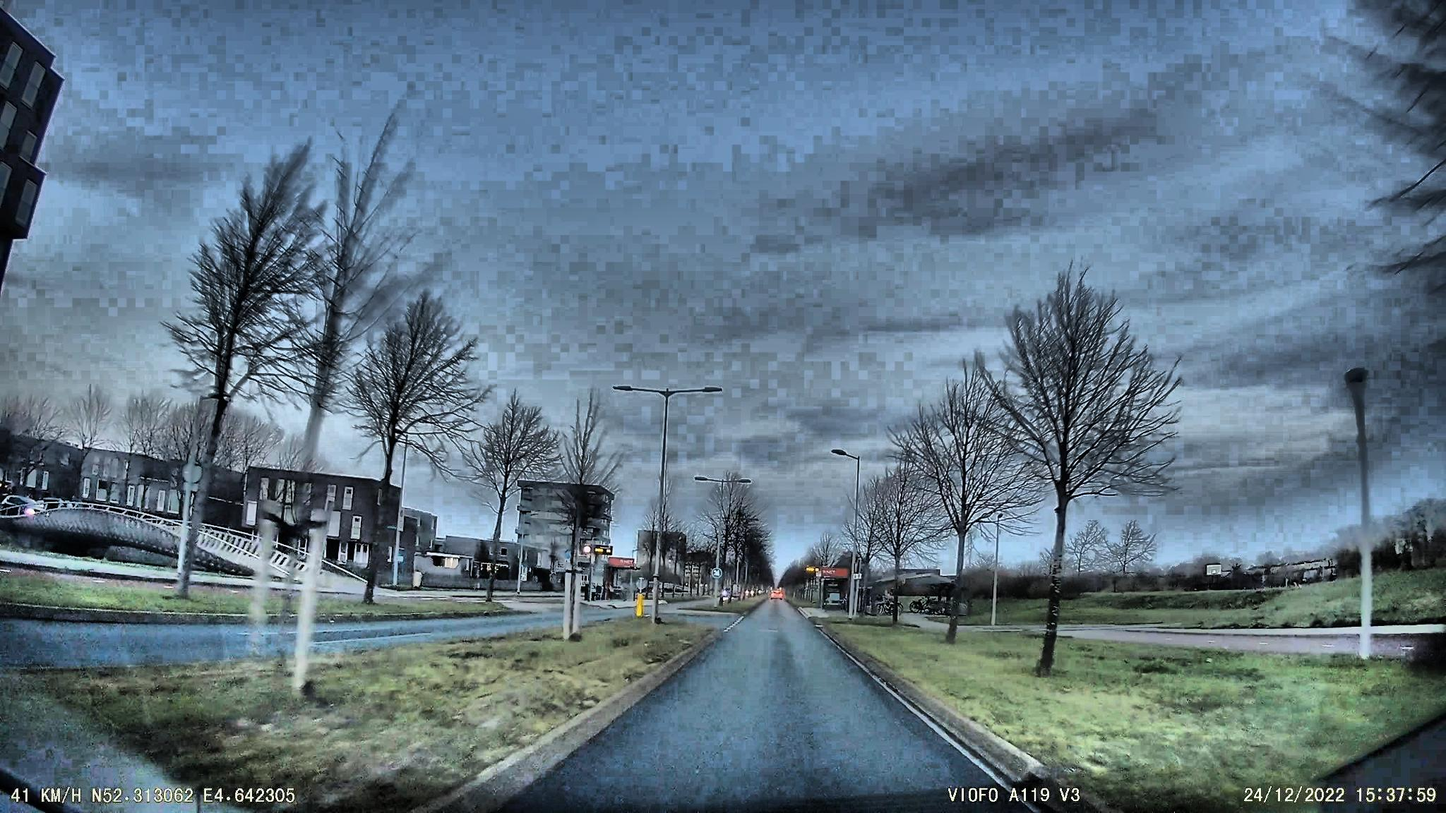Roads: (435, 604, 1104, 813)
